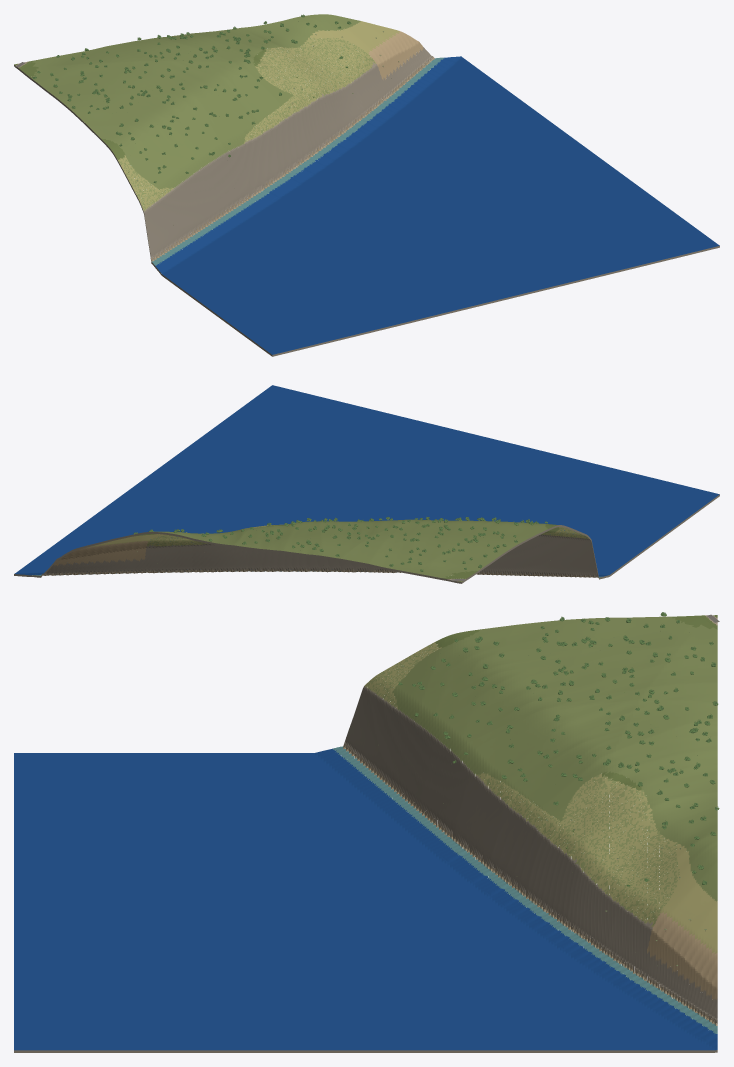
File: parca_+8_-9-yakin.glb
The picture shows the model from 3 angles, top to bottom: view 1: azimuth 30°, elevation 25°; view 2: azimuth 150°, elevation 25°; view 3: azimuth 270°, elevation 25°; orthographic projection. The views are drawn at different scales.
Visible parts, largest first — view 1: parca_+8_-9_arazi, parca_+8_-9_bitkiler; view 2: parca_+8_-9_arazi, parca_+8_-9_bitkiler; view 3: parca_+8_-9_arazi, parca_+8_-9_bitkiler.
Part boxes in pixels (<box>): parca_+8_-9_arazi: <box>14,14,719,356</box>; parca_+8_-9_bitkiler: <box>32,14,399,183</box>; parca_+8_-9_arazi: <box>14,385,719,583</box>; parca_+8_-9_bitkiler: <box>133,517,554,571</box>; parca_+8_-9_arazi: <box>14,615,717,1052</box>; parca_+8_-9_bitkiler: <box>383,612,719,966</box>.
Size of the model in its own units: 1002 by 226 by 1004.
